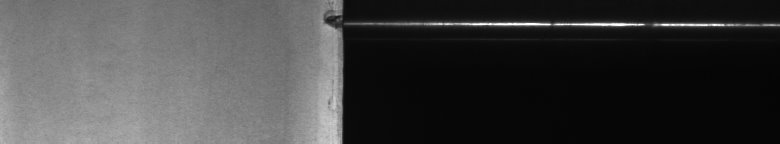hb: (317, 4, 332, 109)
